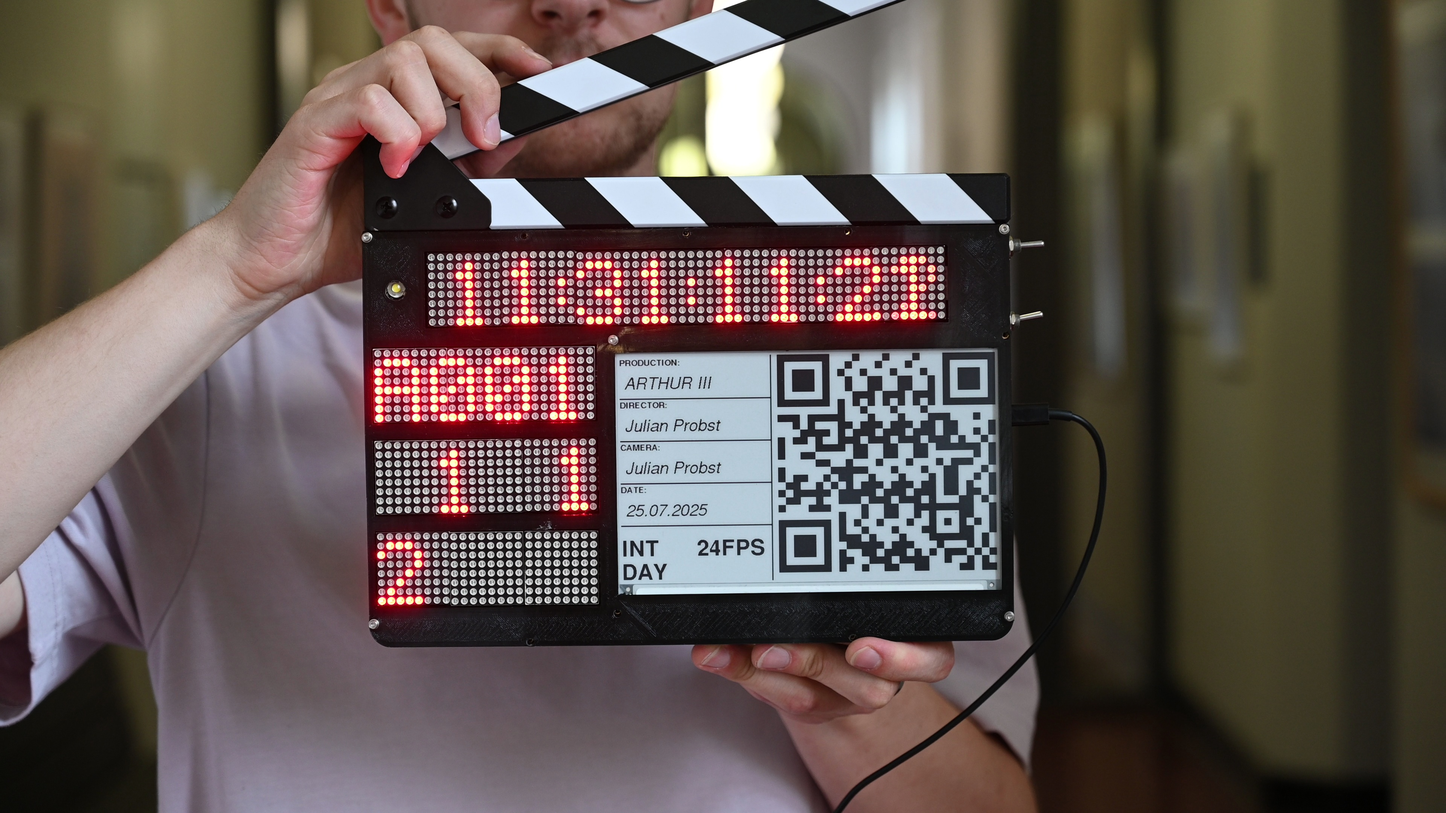ARC-SLATE: (363, 173, 1009, 642)
